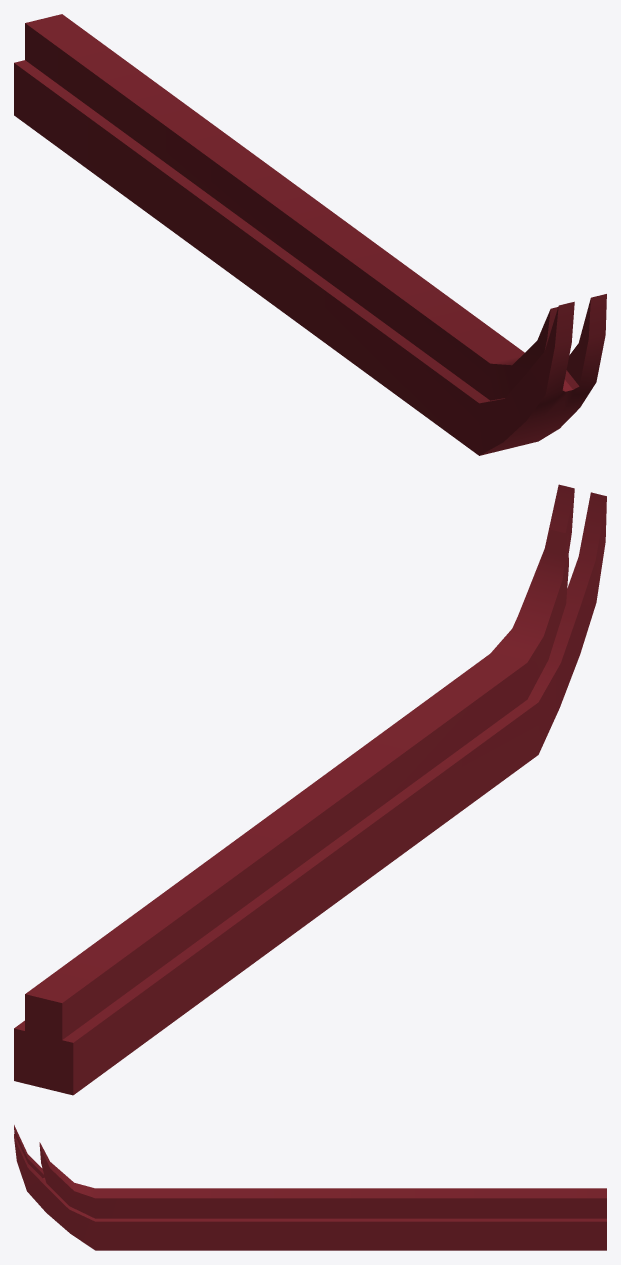
The model's file is BRoofTopTrim_B.fbx.
3 views of the same model, one above another, from view 1: azimuth 30°, elevation 25°; view 2: azimuth 150°, elevation 25°; view 3: azimuth 270°, elevation 25° (orthographic). The views are drawn at different scales.
Visible parts, largest first — view 1: BRoofTopTrim_B; view 2: BRoofTopTrim_B; view 3: BRoofTopTrim_B.
Part boxes in pixels (x1,y1,x2,y2): BRoofTopTrim_B: (14, 14, 606, 455); BRoofTopTrim_B: (14, 484, 606, 1095); BRoofTopTrim_B: (14, 1125, 606, 1250).
Size of the model in its own units: 60.56 by 198 by 954.
